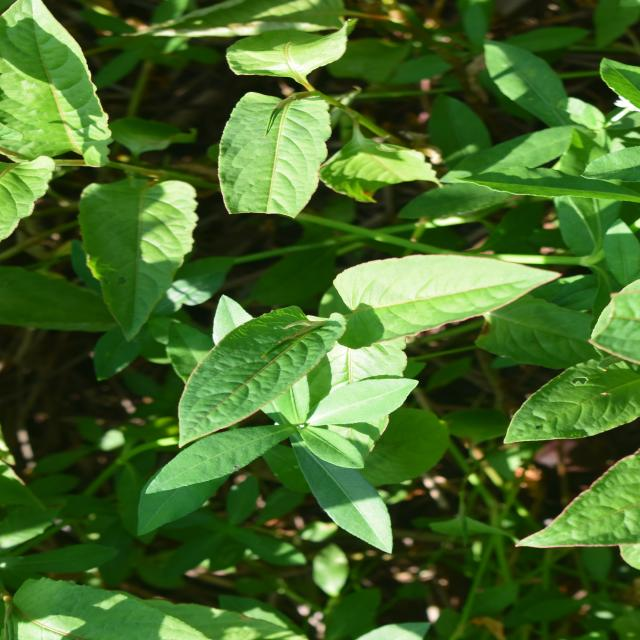Chinese_knotweed: (205, 140, 400, 526), (428, 207, 621, 382)
